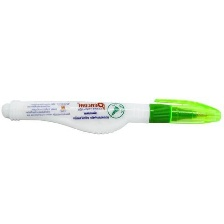correction_fluid: (0, 96, 222, 134)
